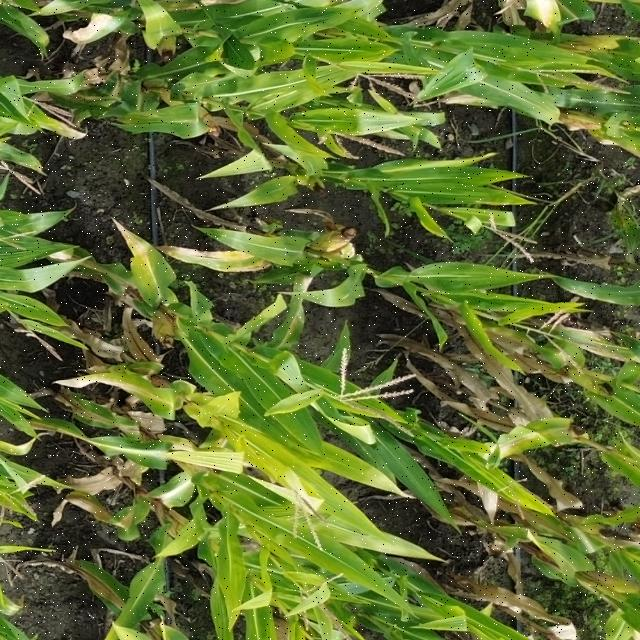gray-leaf-spot: (338, 110, 386, 132)
northern-leaf-blight: (70, 400, 137, 433), (84, 572, 128, 610), (498, 427, 566, 451), (127, 236, 164, 278), (577, 333, 632, 358), (117, 380, 176, 403), (82, 13, 118, 44), (208, 252, 265, 271), (285, 306, 306, 349), (117, 510, 144, 541)
